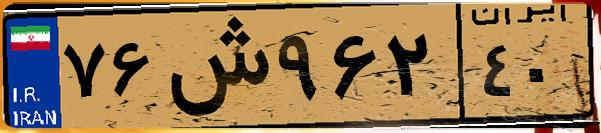0: (525, 38, 570, 115)
2: (385, 28, 445, 110)
4: (475, 38, 525, 113)
6: (330, 28, 385, 110), (110, 28, 158, 98)
7: (57, 26, 110, 100)
9: (270, 28, 330, 110)
ش: (158, 12, 270, 120)
